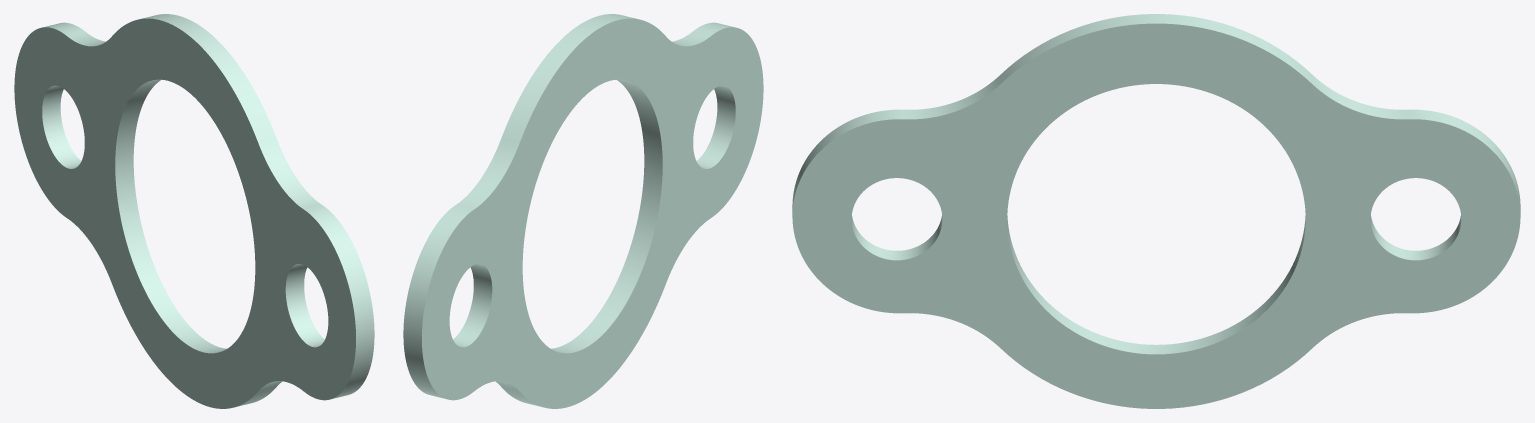
3 views of the same model, side by side, from view 1: azimuth 30°, elevation 25°; view 2: azimuth 150°, elevation 25°; view 3: azimuth 270°, elevation 25° (orthographic). The views are drawn at different scales.
Parts seen in each view (by area): view 1: Renderer Node; view 2: Renderer Node; view 3: Renderer Node.
Part boxes in pixels (x1,y1,x2,y2): Renderer Node: (14, 14, 374, 408); Renderer Node: (403, 14, 763, 408); Renderer Node: (792, 14, 1520, 408).
Size of the model in its own units: 0.0469 by 0.8788 by 1.5.
